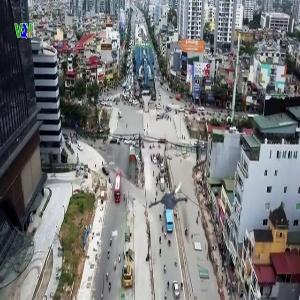drone: (145, 172, 200, 227)
